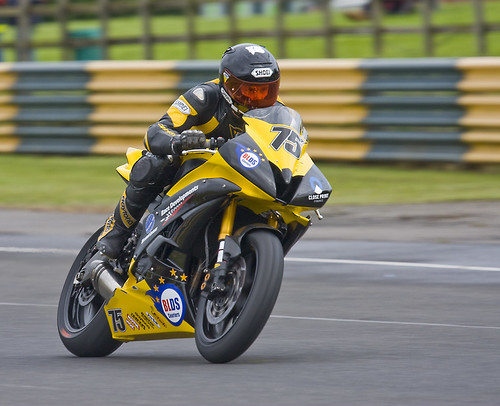helmet: (217, 36, 281, 94)
